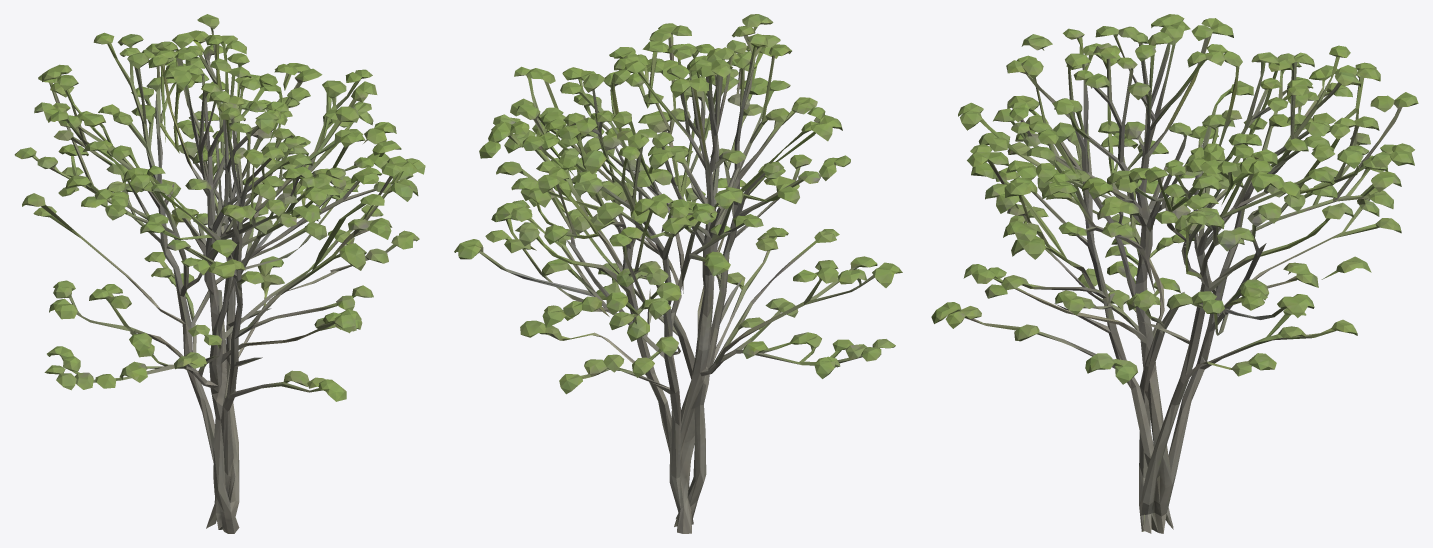
The model's file is arbolmini.glb.
3 views of the same model, side by side, from view 1: azimuth 30°, elevation 25°; view 2: azimuth 150°, elevation 25°; view 3: azimuth 270°, elevation 25° (orthographic). The views are drawn at different scales.
Visible parts, largest first — view 1: node_0; view 2: node_0; view 3: node_0.
Part boxes in pixels (<box>): node_0: <box>14,14,425,533</box>; node_0: <box>454,14,902,533</box>; node_0: <box>931,14,1418,533</box>.
Size of the model in its own units: 0.8305 by 1.05 by 0.9325.
Materials: 1 (1 with a texture image).
